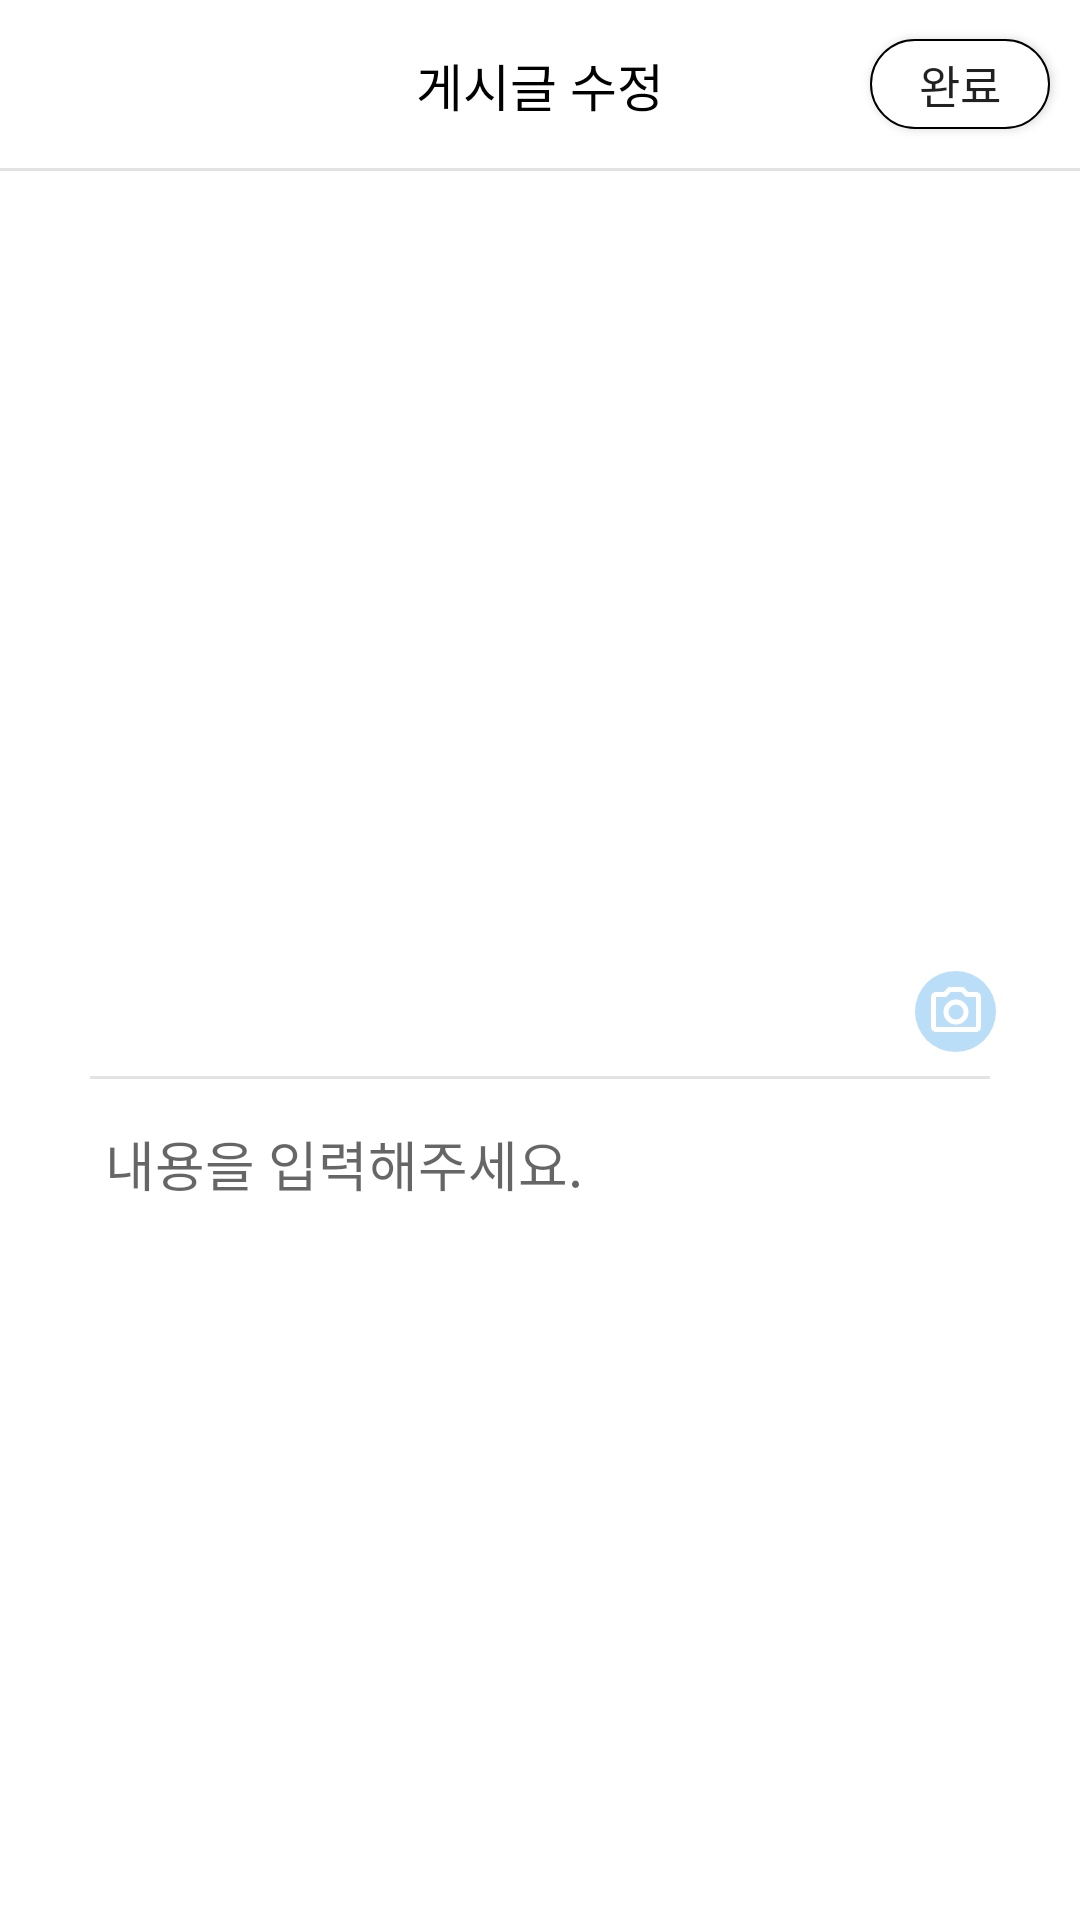

Screen size 1080px×1920px. Icon name, then its box in pixels as (x1, y1, x2, y2):
camera: (915, 971, 996, 1052)
